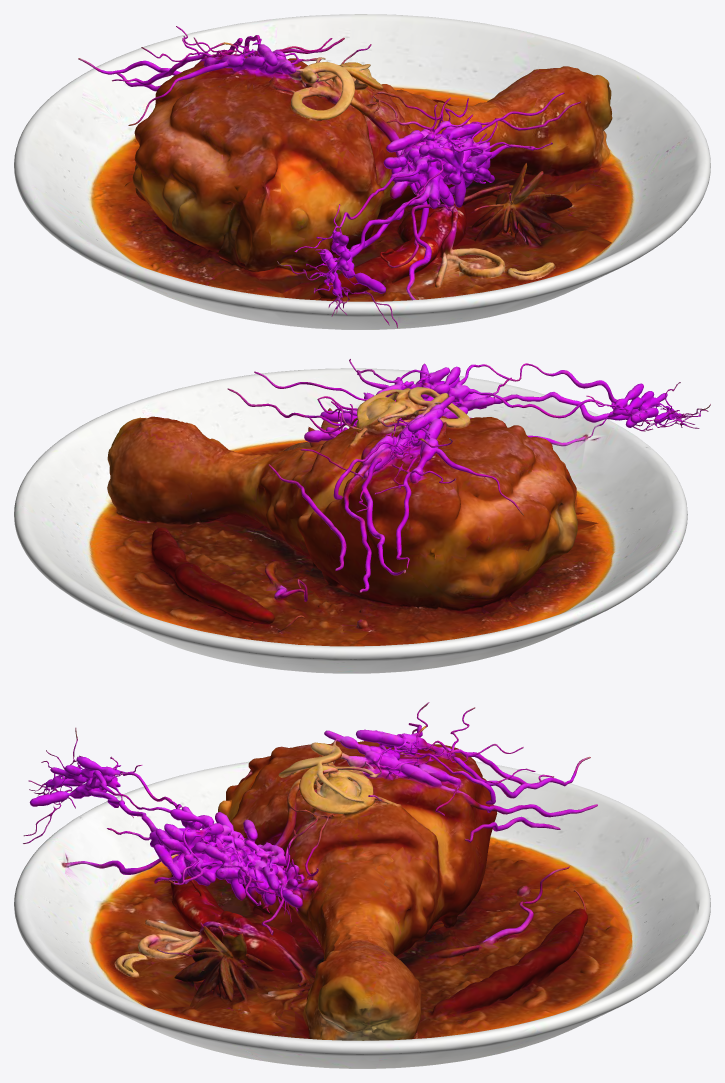
File: Ayam_Masak_Merah.glb
3 renders of one model, top to bottom at view 1: azimuth 30°, elevation 25°; view 2: azimuth 150°, elevation 25°; view 3: azimuth 270°, elevation 25°, orthographic. The views are drawn at different scales.
Visible parts, largest first — view 1: Mesh_0; view 2: Mesh_0; view 3: Mesh_0.
Boxes of the visible parts, x1,y1,x2,y2 form: Mesh_0: (14, 14, 710, 329); Mesh_0: (14, 359, 710, 673); Mesh_0: (14, 702, 710, 1068).
Size of the model in its own units: 1.9 by 0.6676 by 1.9.
Materials: 1 (1 with a texture image).
